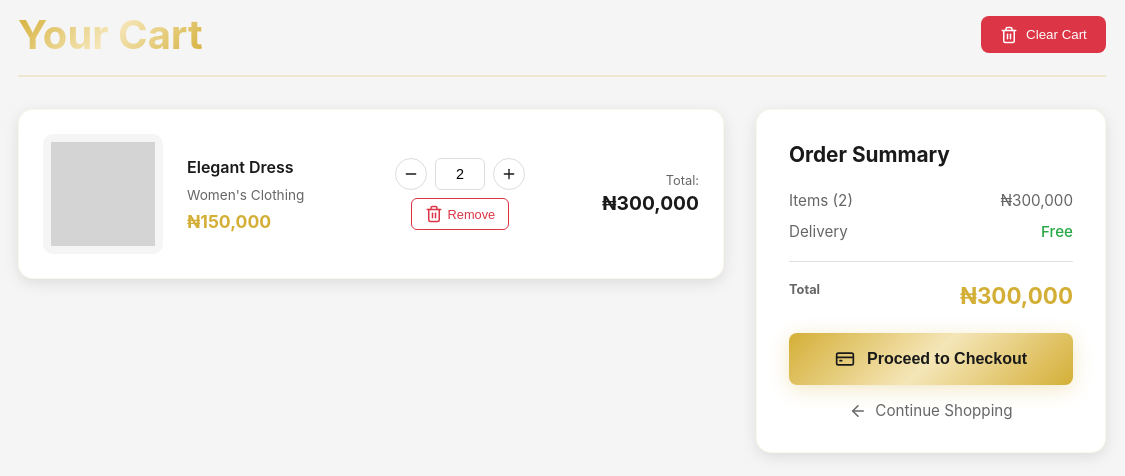
Cart Page › allows quantity updates
Click the button named "Increase quantity". click: (509, 174)
box: [493,158,525,190]
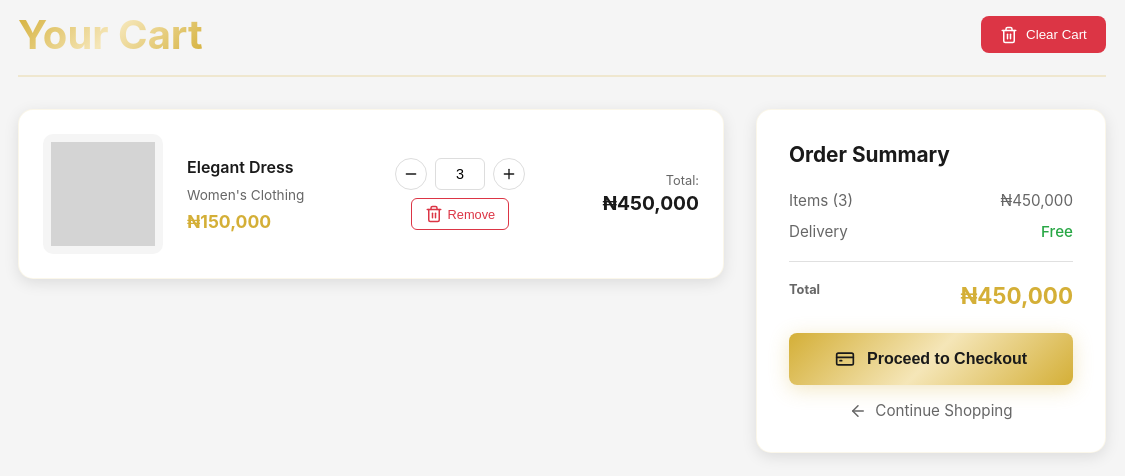
Check: the number field showing "3" is shown, box [435,158,485,190]
